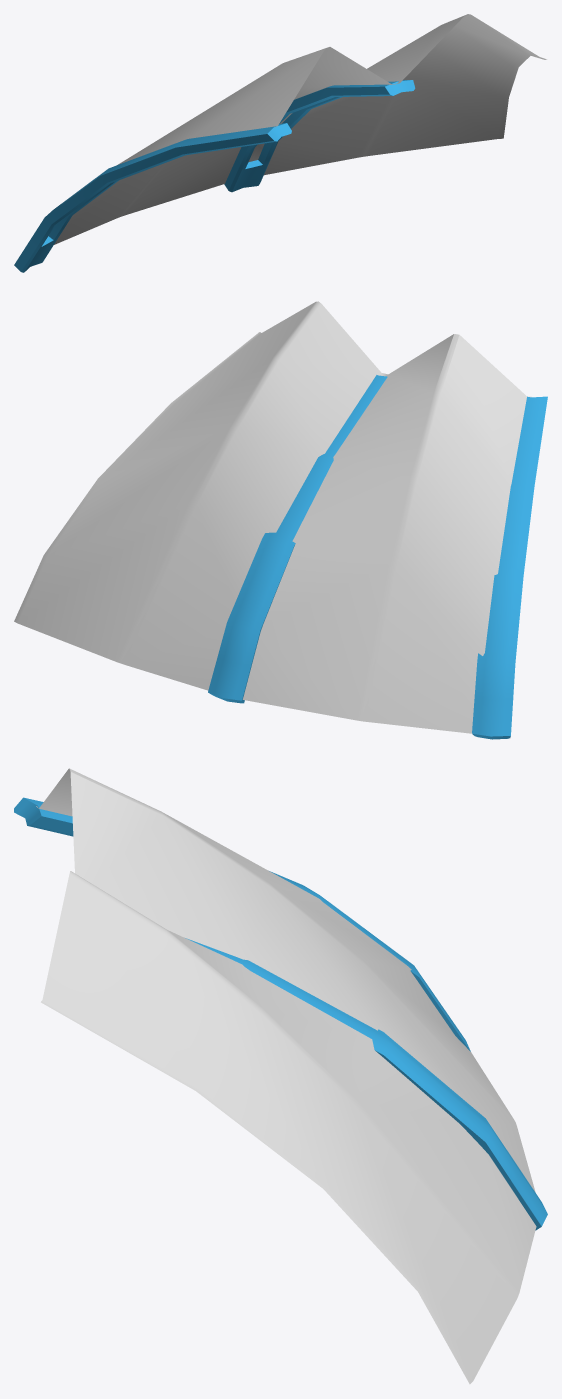
The model's file is P_Roof.fbx.
The picture shows the model from 3 angles, top to bottom: view 1: azimuth 30°, elevation 25°; view 2: azimuth 150°, elevation 25°; view 3: azimuth 270°, elevation 25°; orthographic projection. The views are drawn at different scales.
Visible parts, largest first — view 1: Roof; view 2: Roof; view 3: Roof.
Part boxes in pixels (bbox=[...]): Roof: bbox=[14, 14, 546, 272]; Roof: bbox=[14, 301, 547, 739]; Roof: bbox=[14, 768, 547, 1384].
Size of the model in its own units: 379 by 200 by 241.
